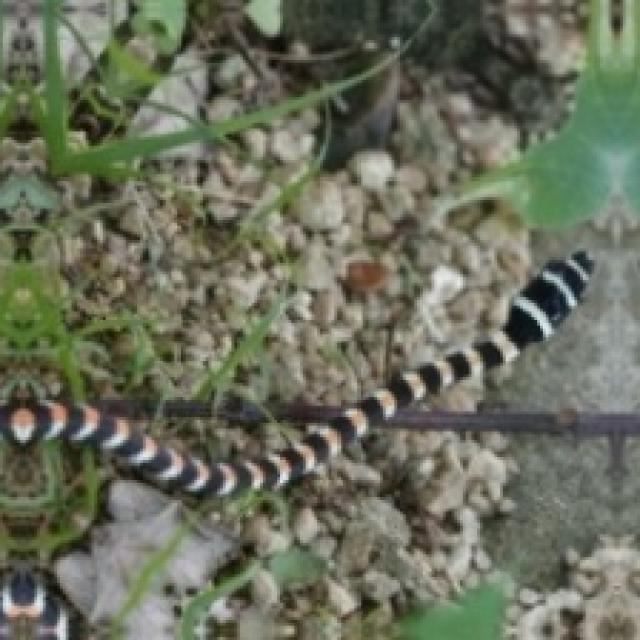paradise tree snake: (0, 251, 591, 494)
